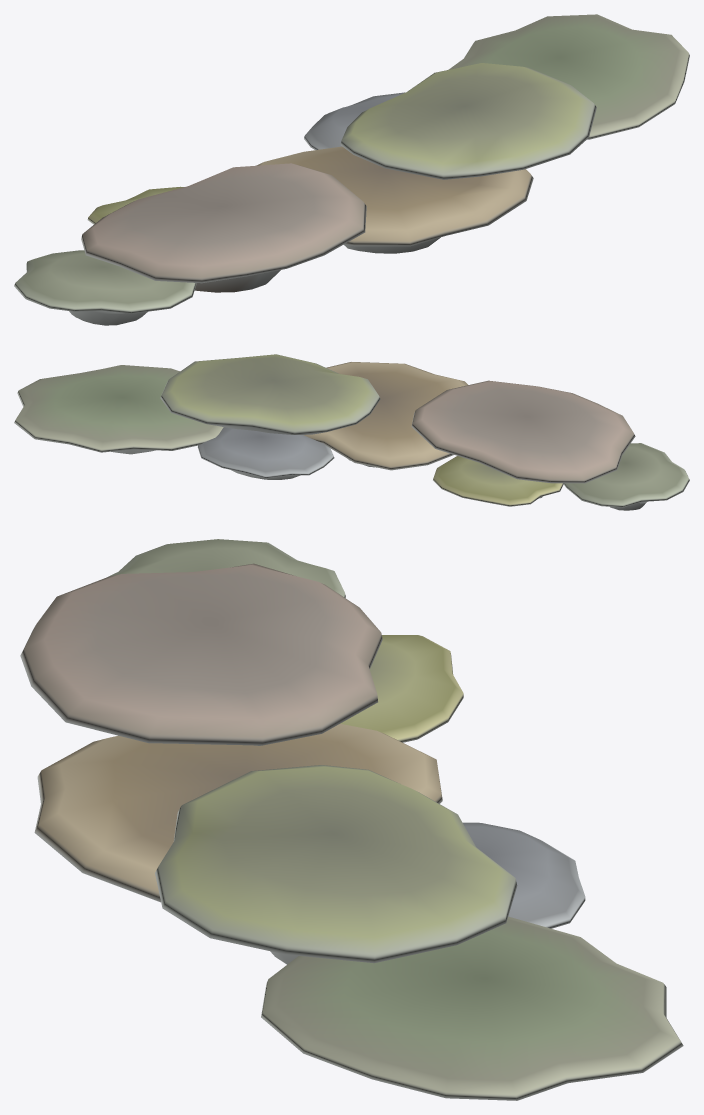
3 views of the same model, one above another, from view 1: azimuth 30°, elevation 25°; view 2: azimuth 150°, elevation 25°; view 3: azimuth 270°, elevation 25° (orthographic). The views are drawn at different scales.
Parts seen in each view (by area): view 1: G:\FFXIV-MapTools\exports\e3f1\bg\ex2\02_est_e3\fld\e3f1\bgp (×3); view 2: G:\FFXIV-MapTools\exports\e3f1\bg\ex2\02_est_e3\fld\e3f1\bgp (×4); view 3: G:\FFXIV-MapTools\exports\e3f1\bg\ex2\02_est_e3\fld\e3f1\bgp (×2).
Boxes of the visible parts, x1=… form: G:\FFXIV-MapTools\exports\e3f1\bg\ex2\02_est_e3\fld\e3f1\bgp (×3): x1=14, y1=14, x2=689, y2=325; G:\FFXIV-MapTools\exports\e3f1\bg\ex2\02_est_e3\fld\e3f1\bgp (×4): x1=14, y1=354, x2=689, y2=510; G:\FFXIV-MapTools\exports\e3f1\bg\ex2\02_est_e3\fld\e3f1\bgp (×2): x1=20, y1=539, x2=683, y2=1100.
Bounding box in the file's own units: 54.75 × 6.09 × 26.61.
